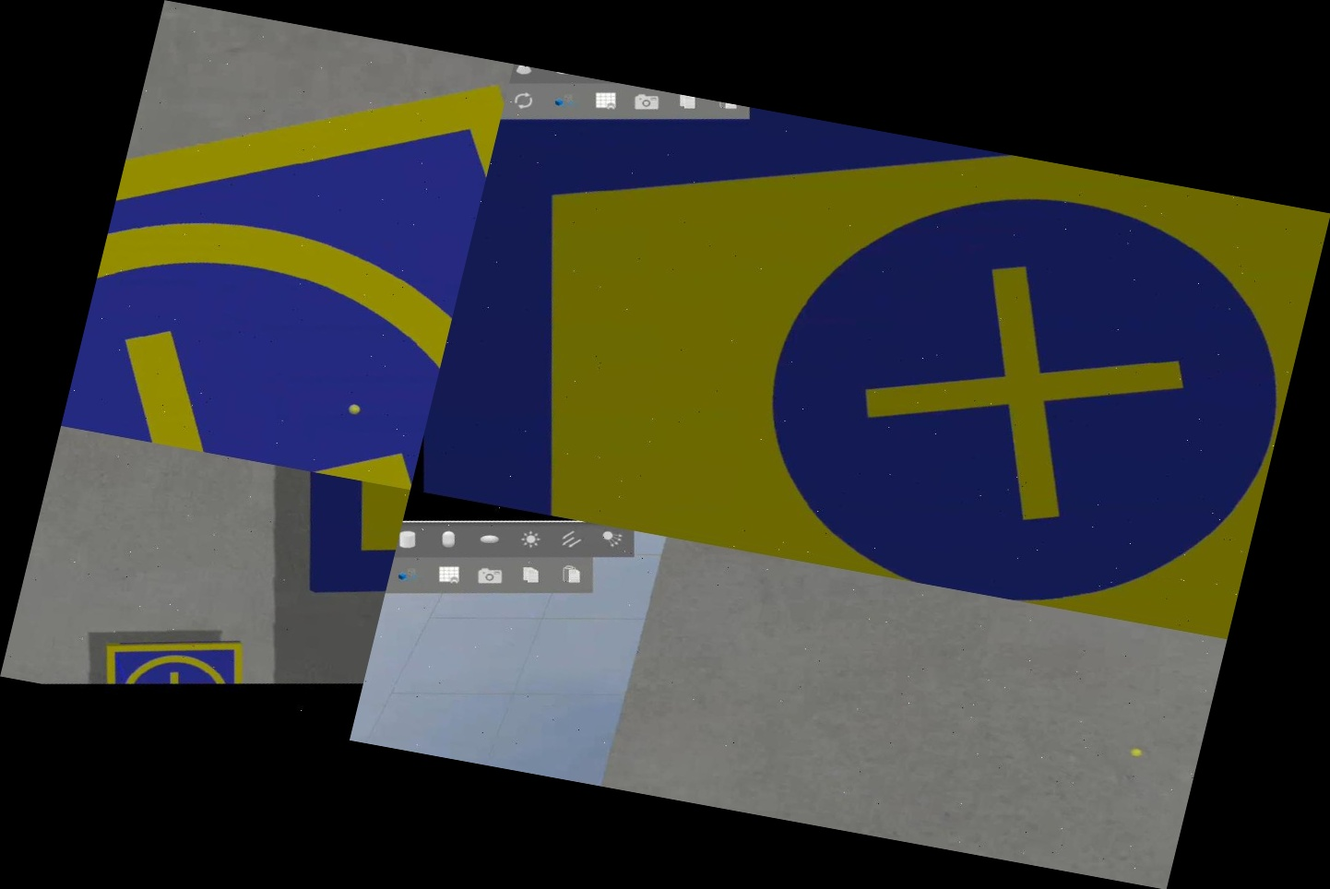large_base: (410, 64, 1330, 639), (225, 461, 410, 607)
small_base: (61, 0, 514, 490), (96, 617, 255, 710)
